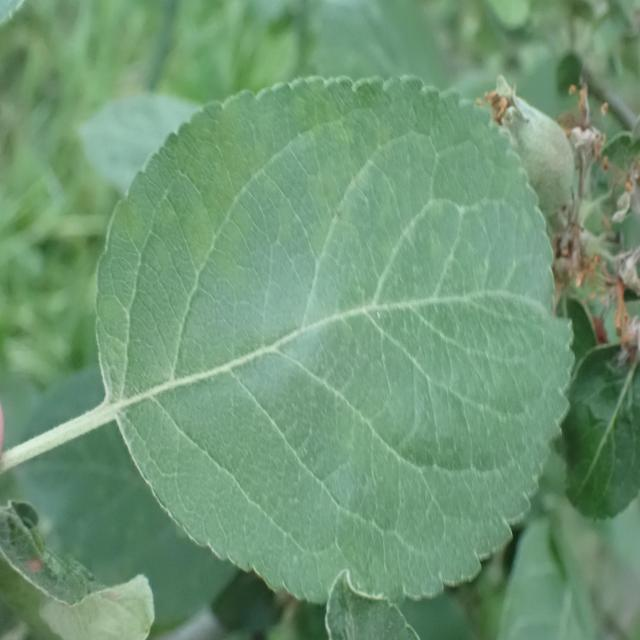scab: (140, 109, 530, 474)
